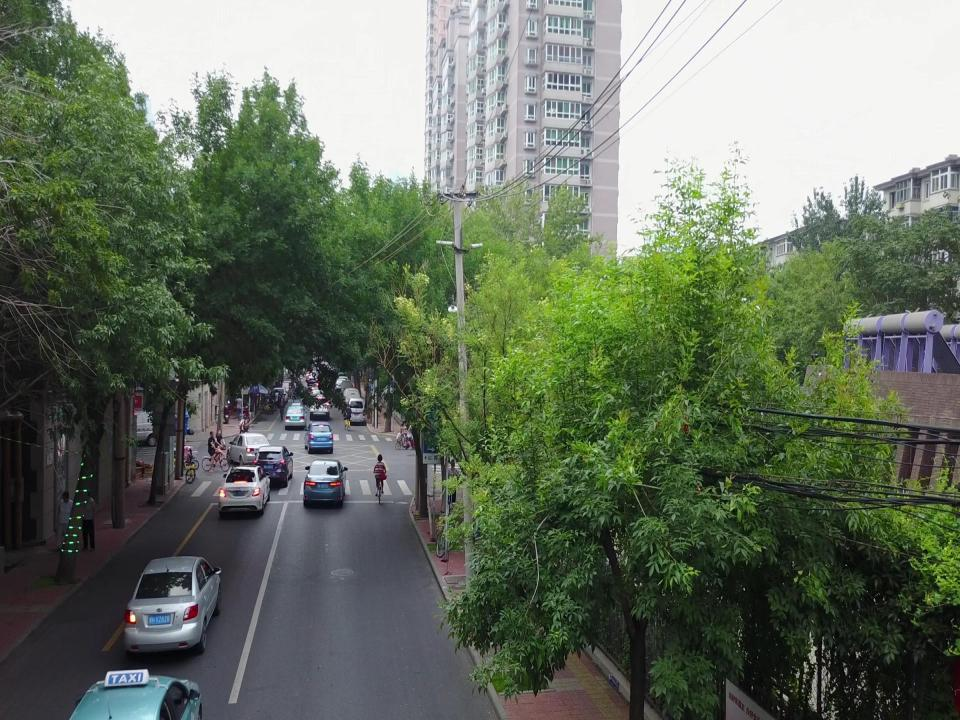car: (124, 555, 222, 654), (65, 669, 204, 720), (212, 464, 271, 515), (300, 457, 348, 510), (253, 446, 297, 486), (226, 431, 272, 465), (305, 422, 335, 454), (283, 398, 311, 430)
van: (117, 409, 164, 448), (348, 398, 366, 425)
